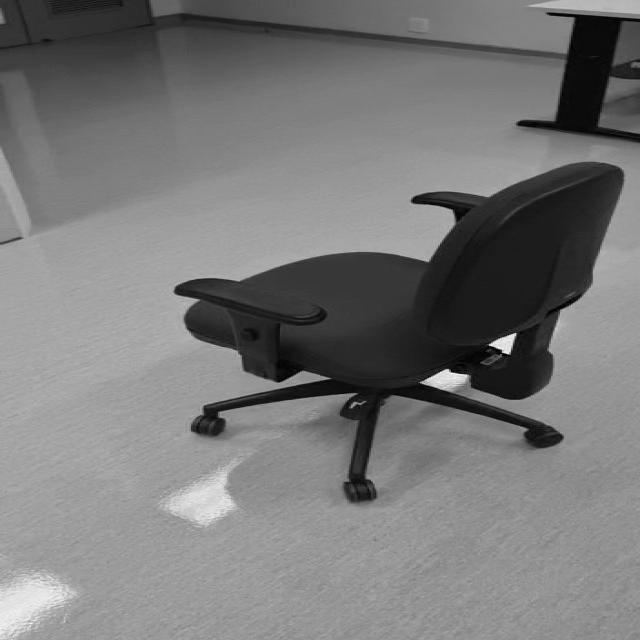chair: (174, 161, 626, 502)
